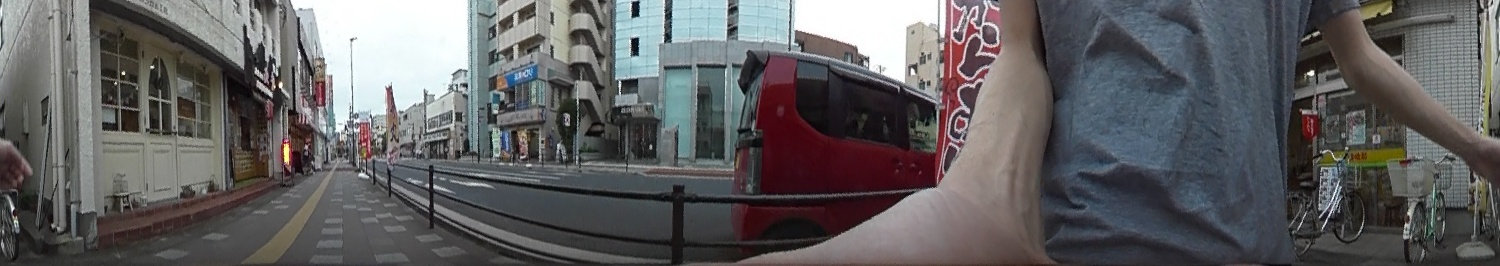difficult_person: (302, 144, 312, 168)
